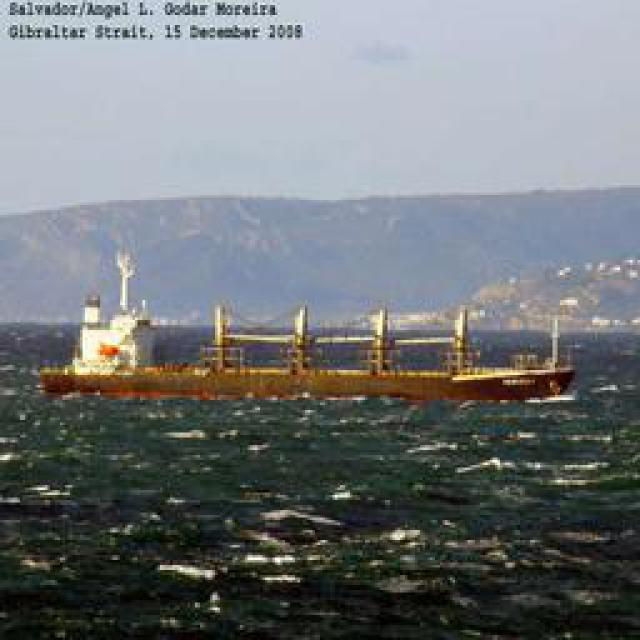Ship: (41, 308, 574, 403)
